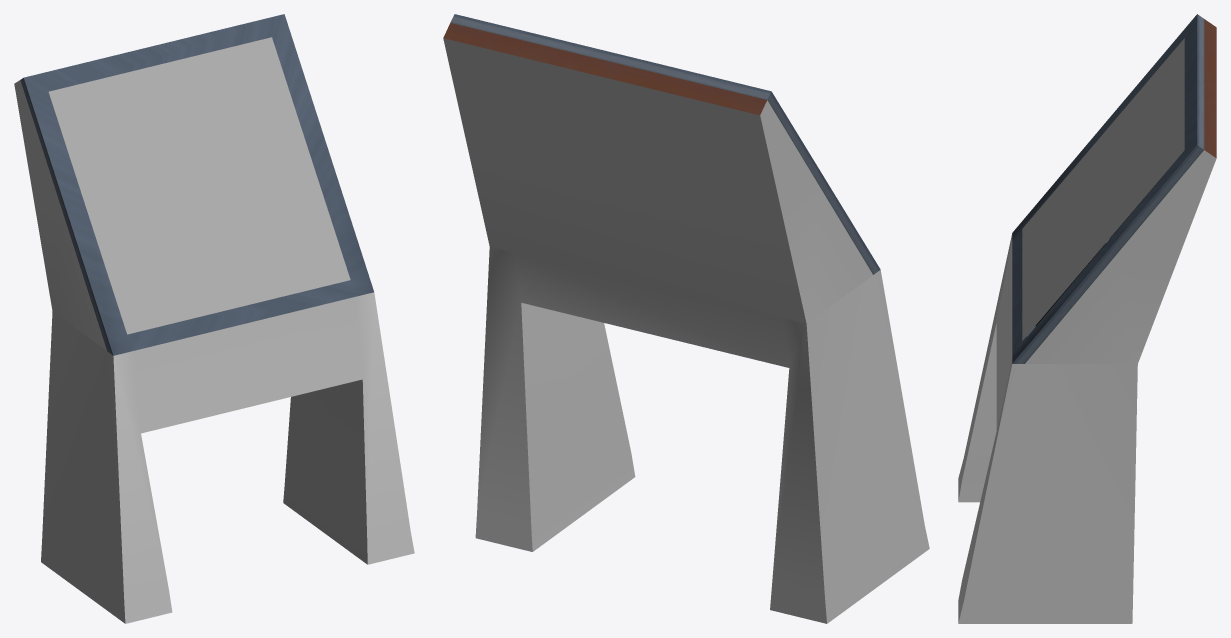
File: EntranceBoard_Art.fbx
3 renders of one model, left to right at view 1: azimuth 30°, elevation 25°; view 2: azimuth 150°, elevation 25°; view 3: azimuth 270°, elevation 25°, orthographic. The views are drawn at different scales.
Visible parts, largest first — view 1: Oktoberfest_EntranceBoard; view 2: Oktoberfest_EntranceBoard; view 3: Oktoberfest_EntranceBoard.
Boxes of the visible parts, box(x1,y1,x2,y2) form: Oktoberfest_EntranceBoard: box(14, 14, 414, 623); Oktoberfest_EntranceBoard: box(443, 14, 929, 623); Oktoberfest_EntranceBoard: box(958, 14, 1216, 623).
Bounding box in the file's own units: 119 × 180 × 89.37.
